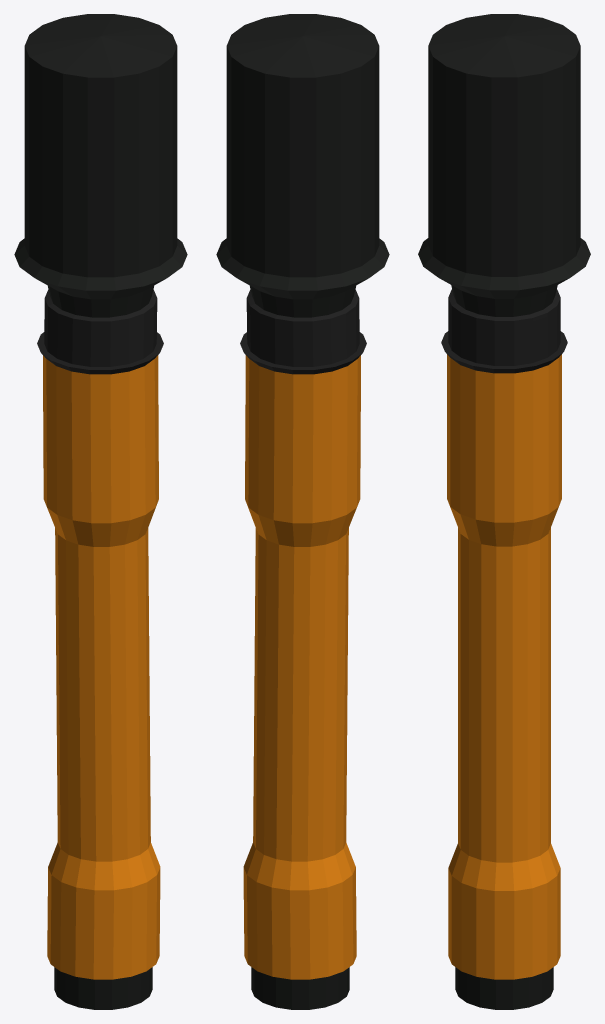
File: Granda.fbx
3 views of the same model, side by side, from view 1: azimuth 30°, elevation 25°; view 2: azimuth 150°, elevation 25°; view 3: azimuth 270°, elevation 25° (orthographic).
Parts seen in each view (by area): view 1: Mango, Cabeza, Union, Union2, TapaAbajo; view 2: Mango, Cabeza, Union, Union2, TapaAbajo; view 3: Mango, Cabeza, Union, Union2, TapaAbajo.
Boxes of the visible parts, box(x1,y1,x2,y2) form: Mango: box(43, 355, 160, 979); Cabeza: box(24, 14, 177, 277); Union: box(37, 289, 163, 374); Union2: box(14, 238, 187, 317); TapaAbajo: box(54, 967, 152, 1009); Mango: box(243, 355, 360, 979); Cabeza: box(226, 14, 379, 277); Union: box(240, 289, 366, 374); Union2: box(216, 238, 389, 317); TapaAbajo: box(251, 967, 349, 1009); Mango: box(447, 354, 561, 979); Cabeza: box(428, 14, 580, 276); Union: box(441, 289, 567, 373); Union2: box(418, 238, 590, 316); TapaAbajo: box(455, 967, 553, 1009).
Bounding box in the file's own units: 77.11 × 479 × 78.3.
